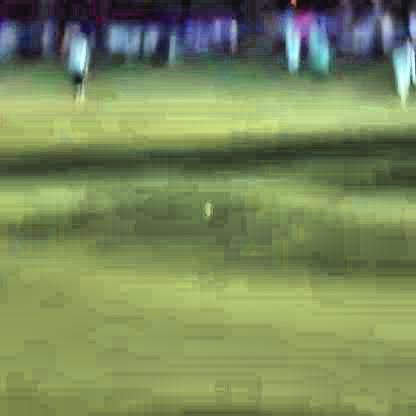golfball: (203, 195, 210, 211)
